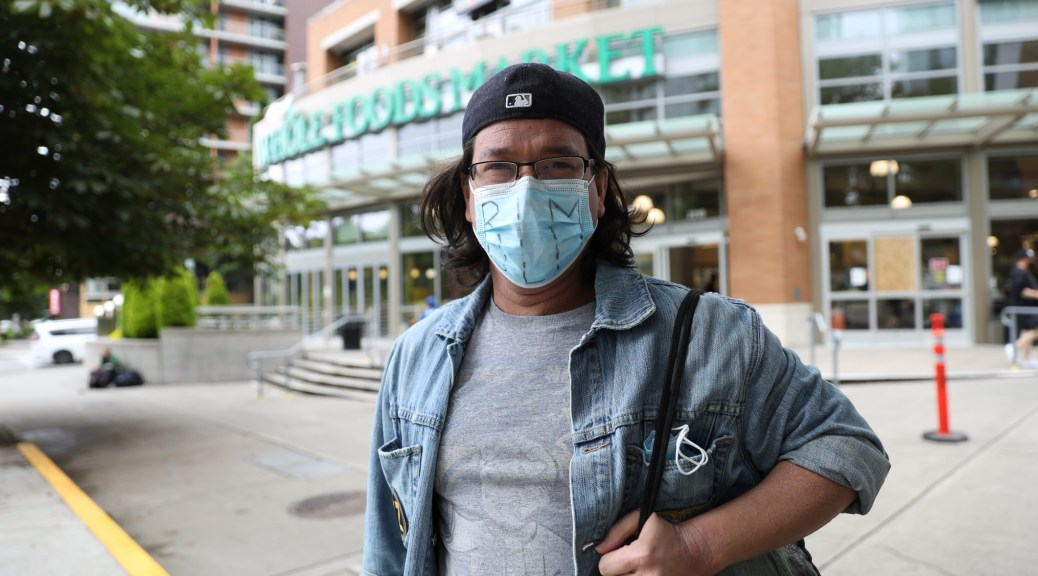Person: (358, 60, 896, 576)
